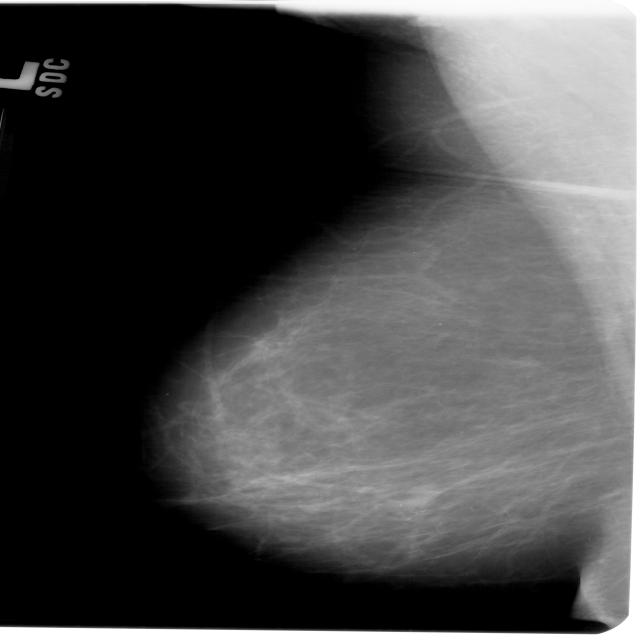normal: (148, 0, 640, 581)
